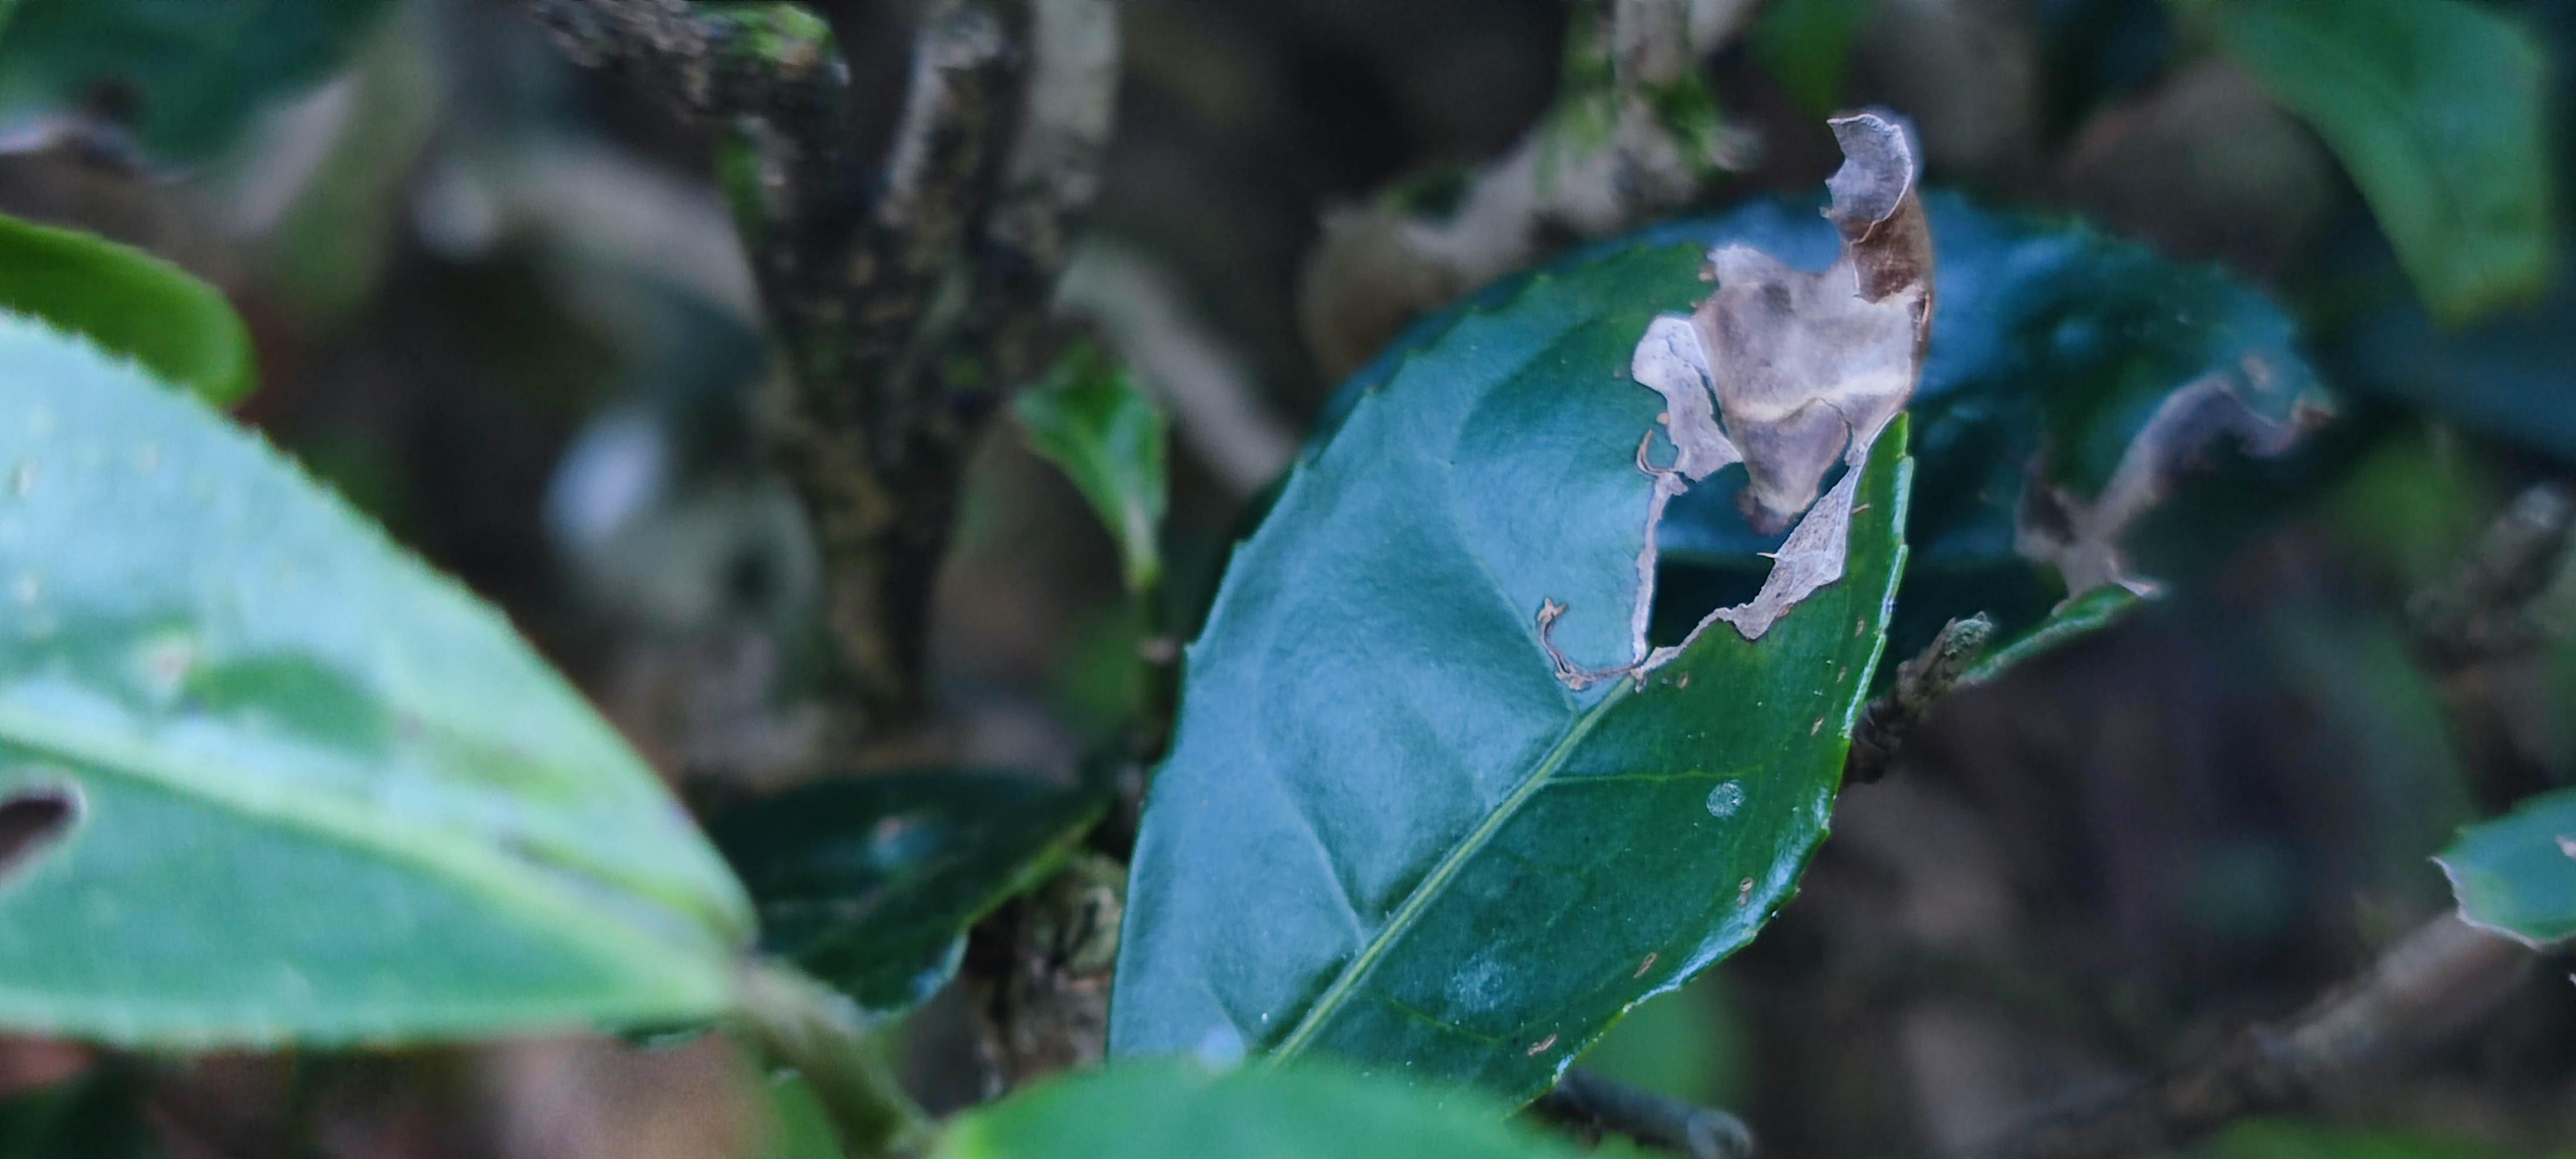chihuo_low: (2, 309, 766, 1065)
tanju_high: (1106, 113, 1939, 1115)
